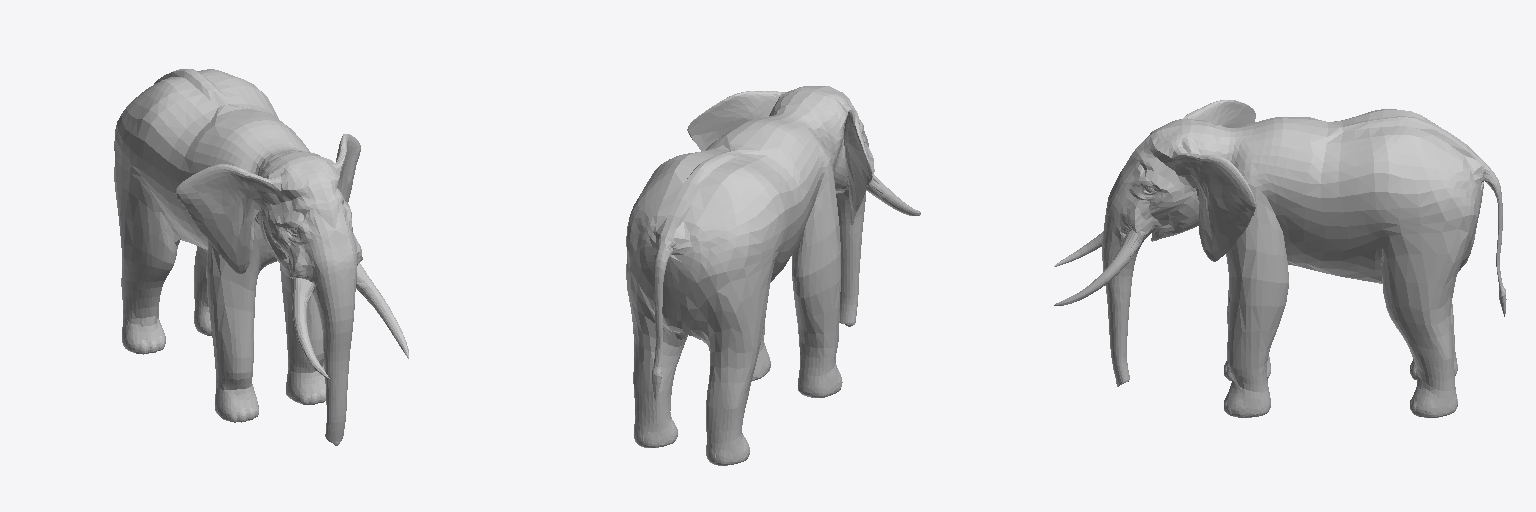
File: ELE_AF1.OBJ
3 views of the same model, side by side, from view 1: azimuth 30°, elevation 25°; view 2: azimuth 150°, elevation 25°; view 3: azimuth 270°, elevation 25° (orthographic).
Visible parts, largest first — view 1: ele1_body, ele1_tusks; view 2: ele1_body, ele1_tusks; view 3: ele1_body, ele1_tusks.
Part boxes in pixels (x1,y1,x2,y2): ele1_body: (114, 69, 362, 445); ele1_tusks: (292, 263, 408, 378); ele1_body: (626, 86, 874, 465); ele1_tusks: (866, 174, 920, 215); ele1_body: (1102, 100, 1506, 417); ele1_tusks: (1054, 231, 1143, 305).
Size of the model in its own units: 2.82 by 4.02 by 5.96.